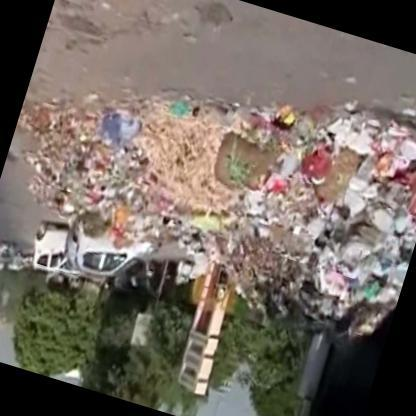Garbage: (289, 101, 415, 343), (189, 92, 345, 268), (95, 88, 224, 248), (90, 94, 153, 164)
